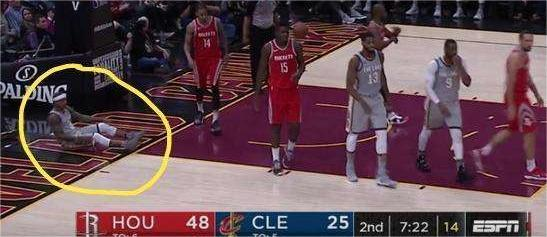bending: (42, 92, 150, 153)
up: (472, 26, 547, 188), (251, 17, 312, 183), (415, 30, 475, 184), (342, 29, 397, 192), (181, 3, 230, 138)
